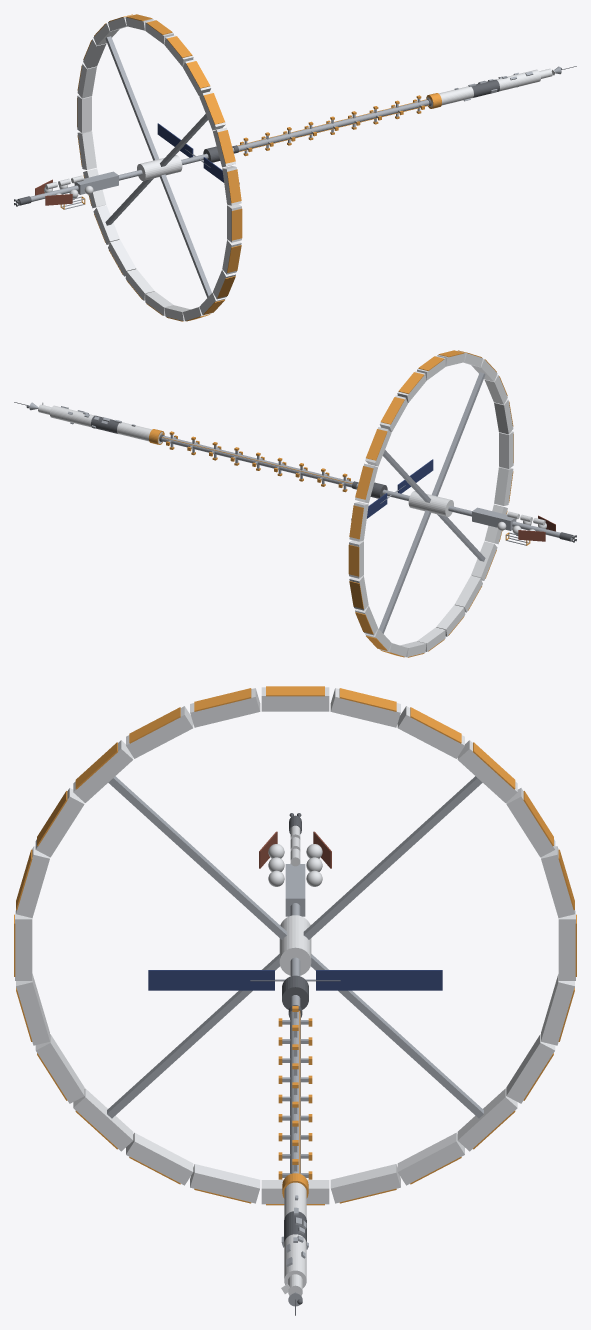
File: aoba.glb
The picture shows the model from 3 angles, top to bottom: view 1: azimuth 30°, elevation 25°; view 2: azimuth 150°, elevation 25°; view 3: azimuth 270°, elevation 25°; orthographic projection. The views are drawn at different scales.
Parts seen in each view (by area): view 1: aoba_spine, aoba_hub, aoba_ring_spoke_0, aoba_ring_spoke_2, aoba_ring_hub, aoba_spine_rear, aoba_rear_block, aoba_ring_seg_23, aoba_ring_seg_00, aoba_ring_seg_20, aoba_ring_seg_21, aoba_ring_seg_01 (+4 smaller); view 2: aoba_spine, aoba_hub, aoba_ring_spoke_1, aoba_ring_spoke_3, aoba_ring_hub, aoba_spine_rear, aoba_rear_block, aoba_ring_seg_13, aoba_ring_seg_12, aoba_ring_seg_15, aoba_ring_seg_16, aoba_ring_seg_11 (+4 smaller); view 3: aoba_solar_0, aoba_solar_1, aoba_ring_spoke_0, aoba_ring_spoke_1, aoba_ring_spoke_2, aoba_ring_spoke_3, aoba_ring_seg_17, aoba_ring_seg_19, aoba_ring_seg_16, aoba_ring_seg_20, aoba_hub, aoba_ring_seg_15 (+22 smaller).
Boxes of the visible parts, x1=… form: aoba_spine: x1=238, y1=99, x2=429, y2=151; aoba_hub: x1=426, y1=69, x2=540, y2=107; aoba_ring_spoke_0: x1=105, y1=36, x2=159, y2=160; aoba_ring_spoke_2: x1=160, y1=174, x2=211, y2=297; aoba_ring_hub: x1=137, y1=155, x2=182, y2=180; aoba_spine_rear: x1=17, y1=147, x2=234, y2=204; aoba_rear_block: x1=74, y1=171, x2=118, y2=194; aoba_ring_seg_23: x1=77, y1=131, x2=96, y2=169; aoba_ring_seg_00: x1=77, y1=95, x2=91, y2=132; aoba_ring_seg_20: x1=108, y1=240, x2=136, y2=276; aoba_ring_seg_21: x1=93, y1=205, x2=119, y2=244; aoba_ring_seg_01: x1=77, y1=63, x2=96, y2=98; aoba_spine: x1=161, y1=435, x2=352, y2=487; aoba_hub: x1=50, y1=405, x2=162, y2=443; aoba_ring_spoke_1: x1=431, y1=372, x2=485, y2=496; aoba_ring_spoke_3: x1=379, y1=510, x2=430, y2=633; aoba_ring_hub: x1=408, y1=491, x2=453, y2=516; aoba_spine_rear: x1=356, y1=483, x2=573, y2=540; aoba_rear_block: x1=472, y1=507, x2=516, y2=530; aoba_ring_seg_13: x1=494, y1=467, x2=513, y2=505; aoba_ring_seg_12: x1=499, y1=431, x2=513, y2=468; aoba_ring_seg_15: x1=471, y1=541, x2=497, y2=580; aoba_ring_seg_16: x1=454, y1=576, x2=482, y2=612; aoba_ring_seg_11: x1=494, y1=399, x2=513, y2=434; aoba_solar_0: x1=316, y1=970, x2=442, y2=990; aoba_solar_1: x1=148, y1=970, x2=274, y2=990; aoba_ring_spoke_0: x1=303, y1=776, x2=482, y2=939; aoba_ring_spoke_1: x1=108, y1=776, x2=287, y2=939; aoba_ring_spoke_2: x1=107, y1=954, x2=279, y2=1118; aoba_ring_spoke_3: x1=311, y1=954, x2=483, y2=1118; aoba_ring_seg_17: x1=190, y1=1164, x2=260, y2=1203; aoba_ring_seg_19: x1=330, y1=1164, x2=400, y2=1203; aoba_ring_seg_16: x1=126, y1=1132, x2=193, y2=1185; aoba_ring_seg_20: x1=397, y1=1132, x2=464, y2=1185; aoba_hub: x1=284, y1=1182, x2=306, y2=1288; aoba_ring_seg_15: x1=73, y1=1088, x2=133, y2=1151.
Bounding box in the file's own units: 2596 × 1243 × 1243.
